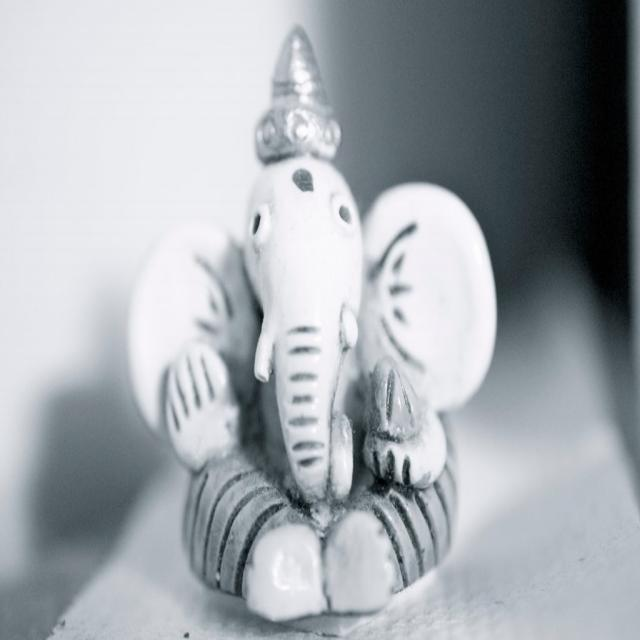Elephant: (171, 92, 420, 576)
